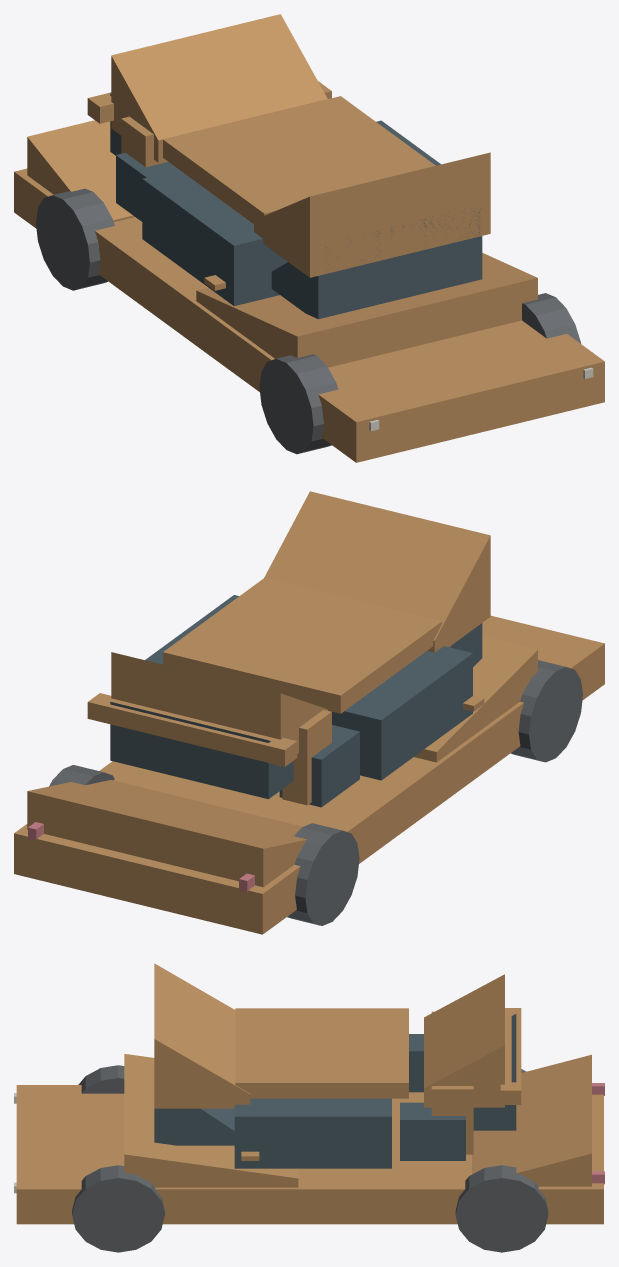
The model's file is duanfeng.glb.
3 views of the same model, one above another, from view 1: azimuth 30°, elevation 25°; view 2: azimuth 150°, elevation 25°; view 3: azimuth 270°, elevation 25° (orthographic). The views are drawn at different scales.
Parts seen in each view (by area): view 1: body, roof_core, Croof, Aroof, hood, side_window_L_front, windshield, rear_clip, wheel_RL, wheel_FL, quarter_window_L, wheel_FR (+2 smaller); view 2: body, roof_core, Aroof, rear_clip, side_window_L_front, Croof, rear_window, wheel_RL, spoiler, hood, wheel_FL, quarter_window_L (+4 smaller); view 3: body, roof_core, side_window_R_front, rear_clip, Aroof, hood, Croof, wheel_RR, wheel_FR, quarter_window_R, windshield, Cpillar_R (+4 smaller).
Part boxes in pixels (x1,y1,x2,y2): body: [14, 168, 604, 462]; roof_core: [163, 96, 435, 223]; Croof: [111, 14, 327, 162]; Aroof: [254, 152, 490, 277]; hood: [196, 253, 537, 367]; side_window_L_front: [142, 170, 287, 306]; windshield: [271, 208, 482, 319]; rear_clip: [27, 120, 134, 221]; wheel_RL: [36, 188, 114, 290]; wheel_FL: [259, 354, 338, 454]; quarter_window_L: [116, 152, 178, 221]; wheel_FR: [522, 293, 581, 343]; body: [14, 615, 604, 934]; roof_core: [163, 578, 441, 713]; Aroof: [264, 491, 490, 652]; rear_clip: [27, 780, 307, 887]; side_window_L_front: [332, 646, 472, 780]; Croof: [111, 652, 327, 766]; rear_window: [110, 701, 293, 799]; wheel_RL: [287, 823, 359, 925]; spoiler: [87, 693, 297, 766]; hood: [414, 636, 537, 762]; wheel_FL: [510, 660, 582, 762]; quarter_window_L: [279, 725, 359, 807]; body: [16, 1085, 603, 1224]; roof_core: [235, 1008, 408, 1098]; side_window_R_front: [234, 1098, 391, 1168]; rear_clip: [472, 1054, 591, 1186]; Aroof: [154, 963, 250, 1108]; hood: [124, 1054, 298, 1187]; Croof: [424, 974, 504, 1107]; wheel_RR: [455, 1165, 548, 1252]; wheel_FR: [72, 1165, 164, 1252]; quarter_window_R: [400, 1102, 465, 1160]; windshield: [154, 1108, 234, 1145]; Cpillar_R: [431, 1086, 473, 1154].
Size of the model in its own units: 1.81 by 1.46 by 3.99.
